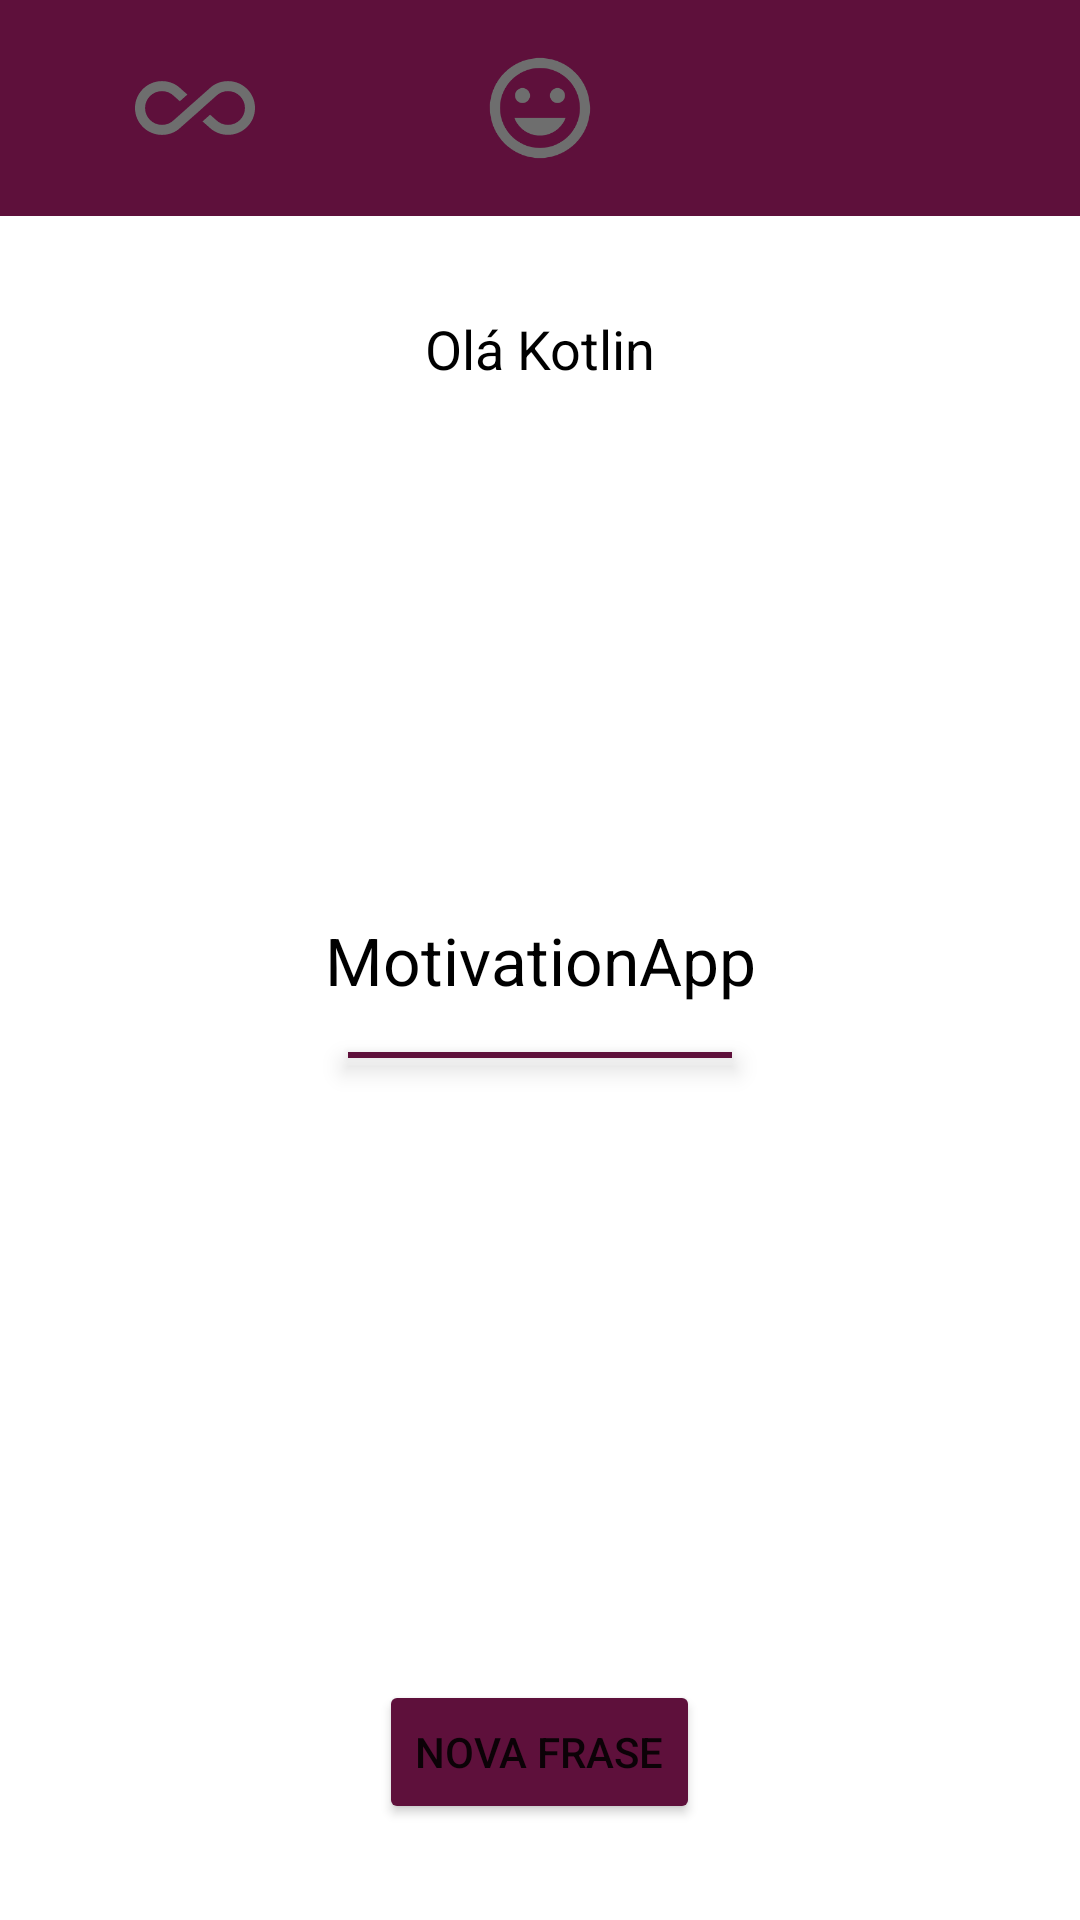

Screen size 1080px×1920px. Icon name, then its box in pixels as (x1, y1, x2, y2):
all inclusive: (135, 81, 255, 135)
tag faces: (490, 58, 590, 158)
